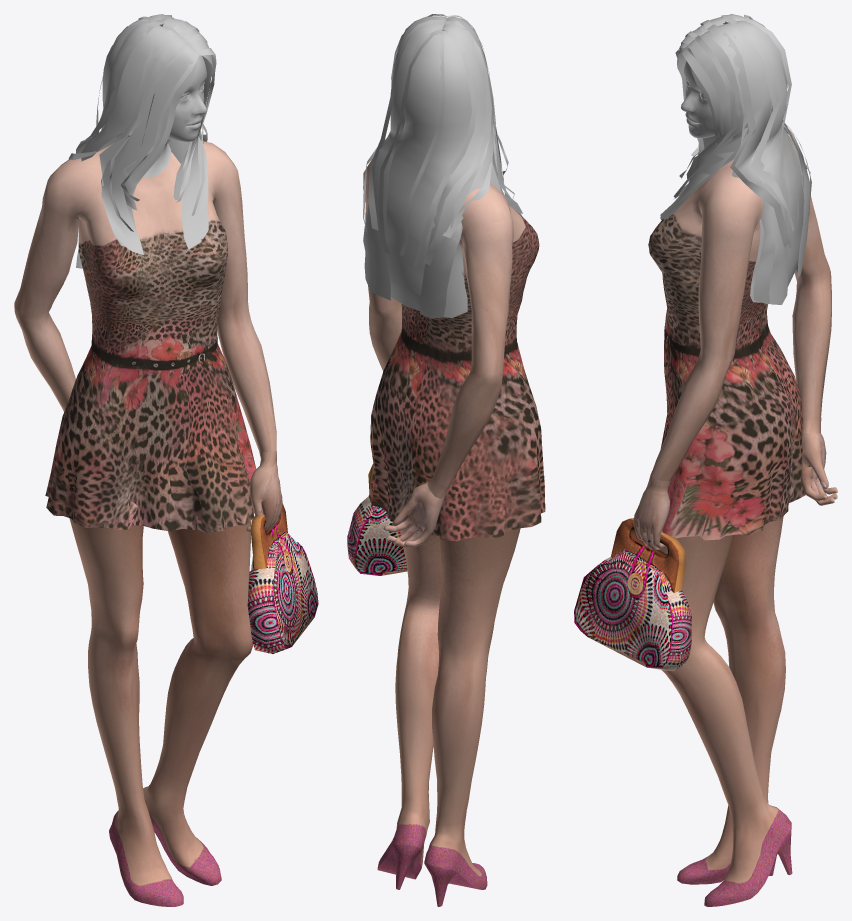
The picture shows the model from 3 angles, left to right: view 1: azimuth 30°, elevation 25°; view 2: azimuth 150°, elevation 25°; view 3: azimuth 270°, elevation 25°; orthographic projection.
Parts seen in each view (by area): view 1: UA_Female12_4; view 2: UA_Female12_4; view 3: UA_Female12_4.
Part boxes in pixels (x1,y1,x2,y2): UA_Female12_4: (14, 14, 318, 906); UA_Female12_4: (347, 14, 545, 906); UA_Female12_4: (574, 14, 837, 906).
Bounding box in the file's own units: 48.5 × 176 × 48.51.
